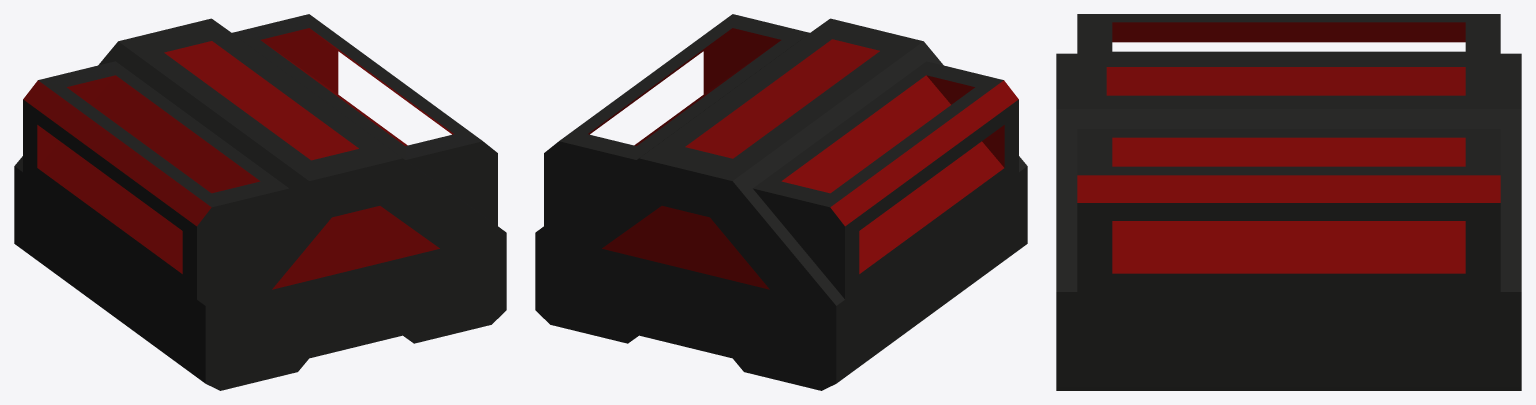
Rendered from Turret.fbx.
3 views of the same model, side by side, from view 1: azimuth 30°, elevation 25°; view 2: azimuth 150°, elevation 25°; view 3: azimuth 270°, elevation 25° (orthographic). The views are drawn at different scales.
Parts seen in each view (by area): view 1: Turret_Close; view 2: Turret_Close; view 3: Turret_Close.
Part boxes in pixels (x1,y1,x2,y2): Turret_Close: (14,14,506,390); Turret_Close: (535,14,1027,390); Turret_Close: (1056,14,1521,390).
Bounding box in the file's own units: 1 × 1.1 × 0.5972.
